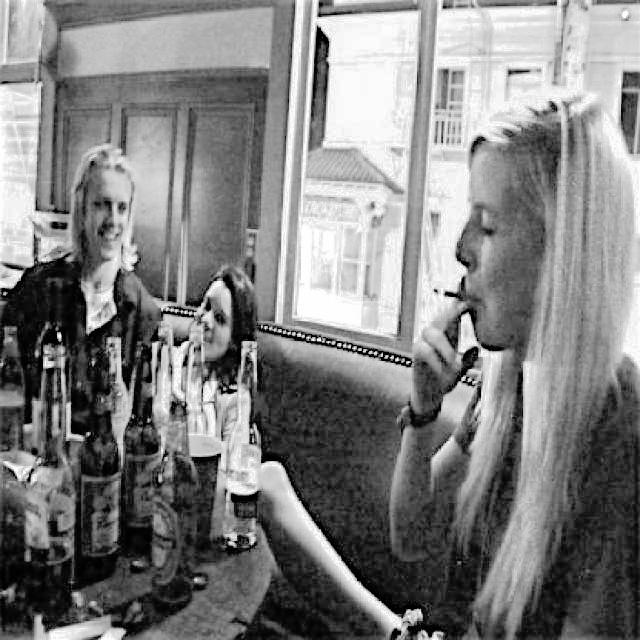Person: (386, 77, 640, 640), (0, 142, 174, 427), (174, 259, 265, 450)
